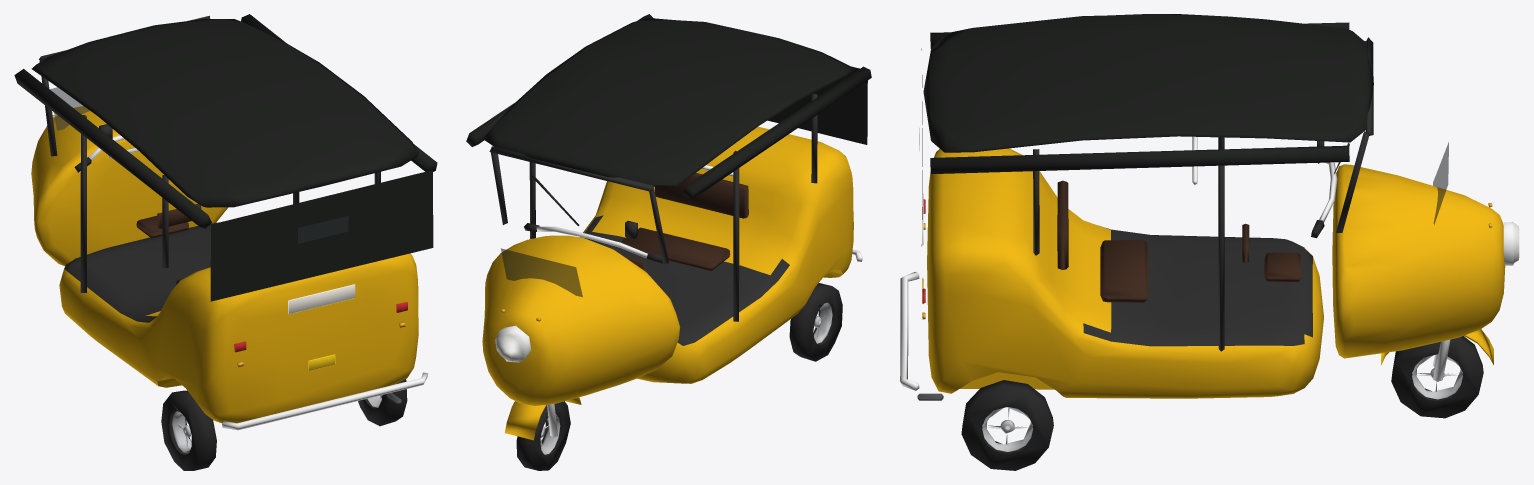
The model's file is auto_2_lo.glb.
The picture shows the model from 3 angles, left to right: view 1: azimuth 30°, elevation 25°; view 2: azimuth 150°, elevation 25°; view 3: azimuth 270°, elevation 25°; orthographic projection. The views are drawn at different scales.
Parts seen in each view (by area): view 1: body, wheel_1, wheel_2; view 2: body, wheel_1, wheel_0; view 3: body, wheel_2, wheel_0.
Boxes of the visible parts, x1,y1,x2,y2 form: body: (14,14,437,430); wheel_1: (161,390,216,470); wheel_2: (358,379,407,426); body: (466,14,871,440); wheel_1: (789,283,842,361); wheel_0: (516,401,570,470); body: (900,14,1519,400); wheel_2: (961,380,1053,470); wheel_0: (1391,336,1483,418).
Bounding box in the file's own units: 1.42 × 1.75 × 2.81.
